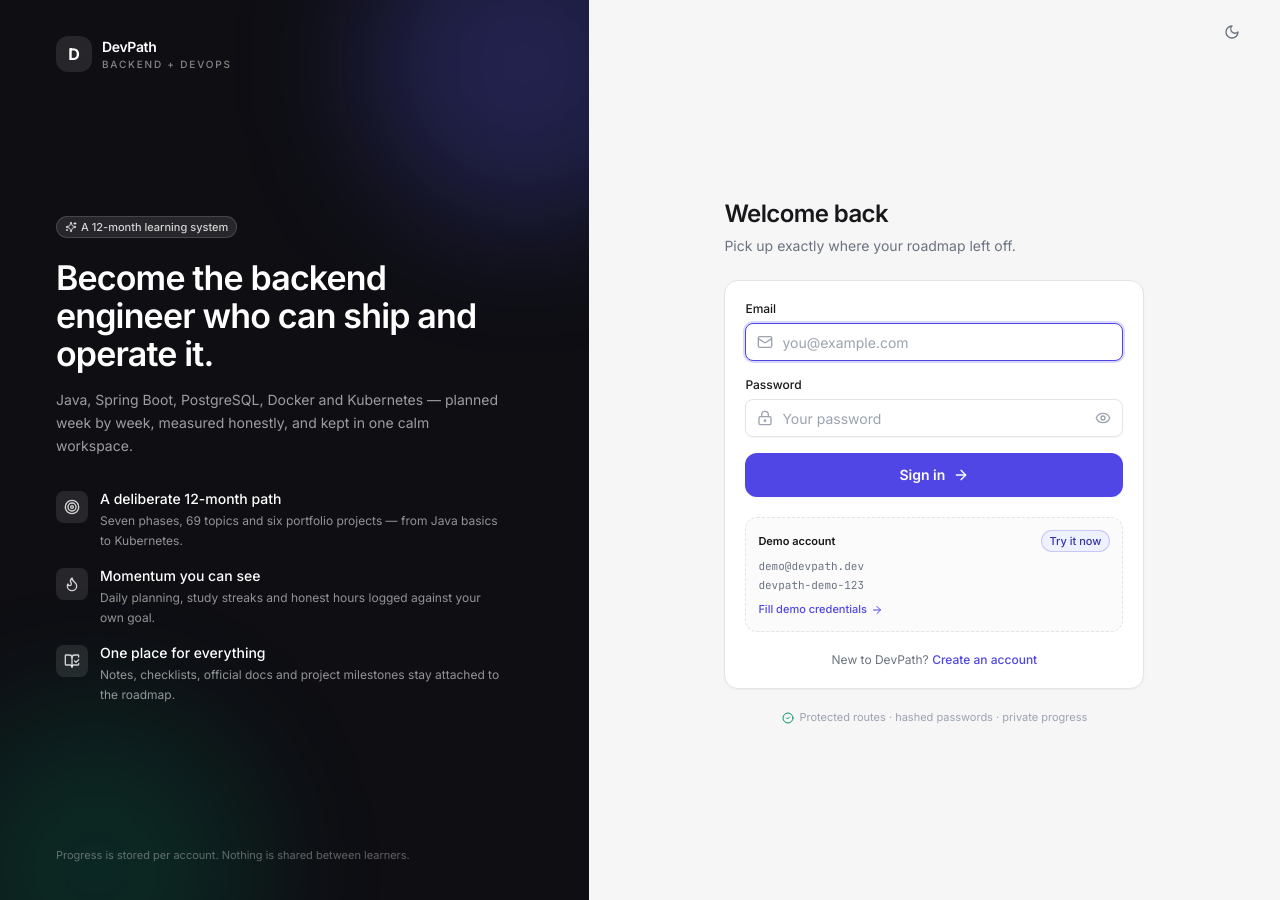
Scenario: LoginPage › shows the demo credentials and requires an email
Check: the text "demo@devpath.dev" is shown, box x1=758 y1=559 x2=864 y2=573
Check: the text "devpath-demo-123" is shown, box x1=758 y1=578 x2=864 y2=592
Step 1. Click the button "Sign in" → point(934, 475), box x1=745 y1=453 x2=1123 y2=497
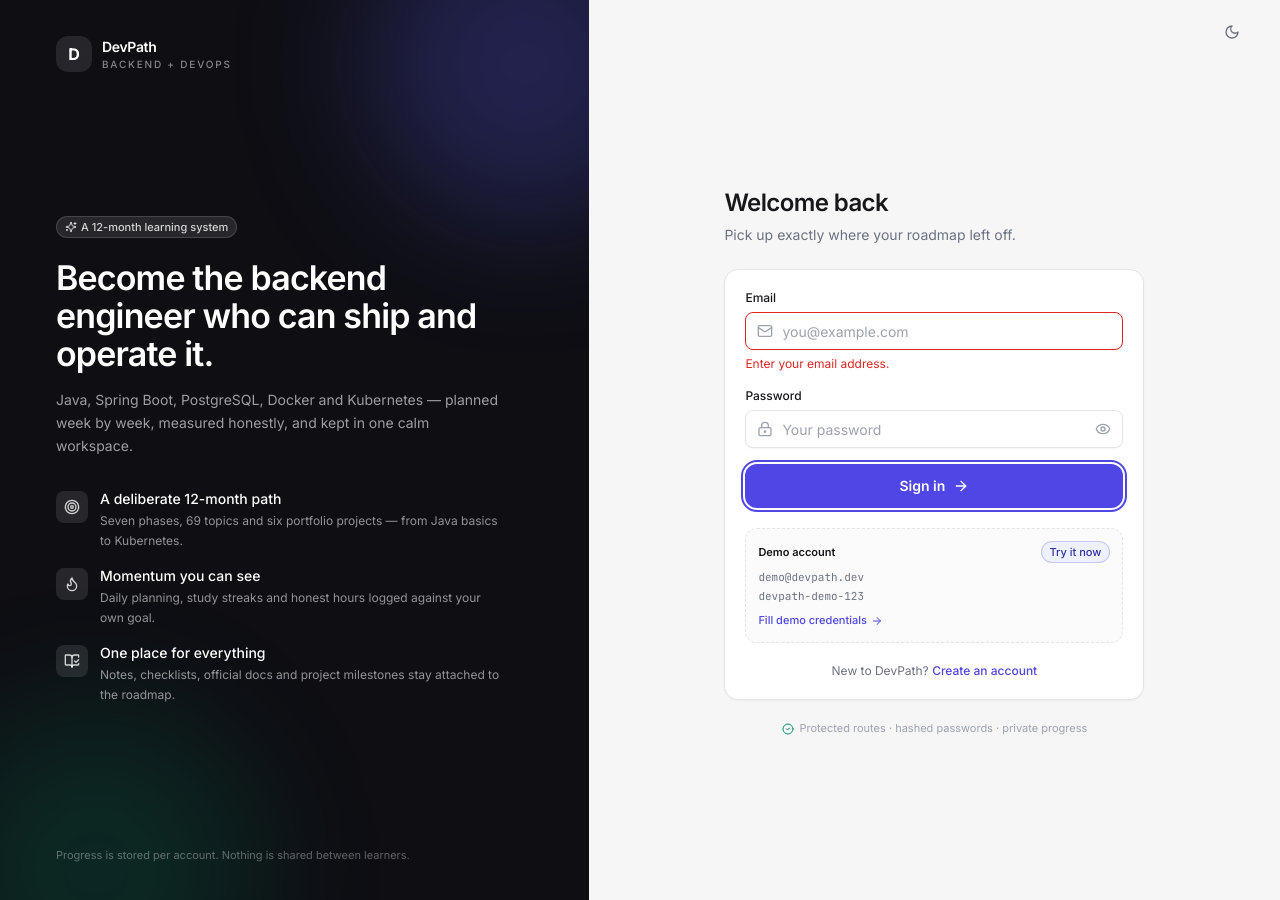
Check: the text "Enter your email address." is shown, box x1=745 y1=356 x2=889 y2=371
